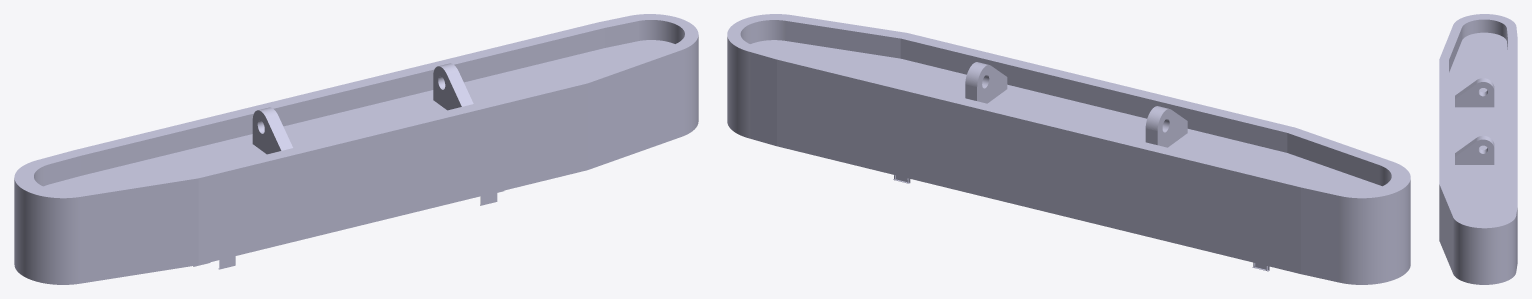
The model's file is CRAWLER_RIGHT.obj.
3 renders of one model, left to right at view 1: azimuth 30°, elevation 25°; view 2: azimuth 150°, elevation 25°; view 3: azimuth 270°, elevation 25°, orthographic. The views are drawn at different scales.
Parts seen in each view (by area): view 1: SCX2000-3_CRAWLER_000_1-HSC_SCX2000-3_CRAWLER014 (Meshed), SCX2000-3_CRAWLER_000_1-HSC_SCX2000-3_CRAWLER017 (Meshed); view 2: SCX2000-3_CRAWLER_000_1-HSC_SCX2000-3_CRAWLER014 (Meshed), SCX2000-3_CRAWLER_000_1-HSC_SCX2000-3_CRAWLER017 (Meshed); view 3: SCX2000-3_CRAWLER_000_1-HSC_SCX2000-3_CRAWLER017 (Meshed), SCX2000-3_CRAWLER_000_1-HSC_SCX2000-3_CRAWLER014 (Meshed).
Boxes of the visible parts, left/top/right/bottom form: SCX2000-3_CRAWLER_000_1-HSC_SCX2000-3_CRAWLER014 (Meshed): left=14, top=14, right=698, bottom=284; SCX2000-3_CRAWLER_000_1-HSC_SCX2000-3_CRAWLER017 (Meshed): left=43, top=40, right=674, bottom=190; SCX2000-3_CRAWLER_000_1-HSC_SCX2000-3_CRAWLER014 (Meshed): left=727, top=14, right=1410, bottom=284; SCX2000-3_CRAWLER_000_1-HSC_SCX2000-3_CRAWLER017 (Meshed): left=751, top=40, right=1381, bottom=190; SCX2000-3_CRAWLER_000_1-HSC_SCX2000-3_CRAWLER017 (Meshed): left=1449, top=32, right=1507, bottom=224; SCX2000-3_CRAWLER_000_1-HSC_SCX2000-3_CRAWLER014 (Meshed): left=1439, top=14, right=1517, bottom=284.
Bounding box in the file's own units: 9045 × 1637 × 1400.
